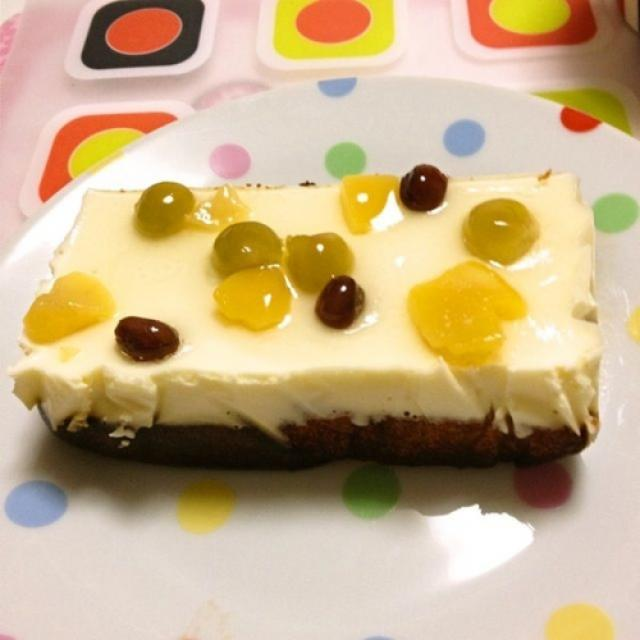Rare cheese cake: (7, 161, 619, 519)
